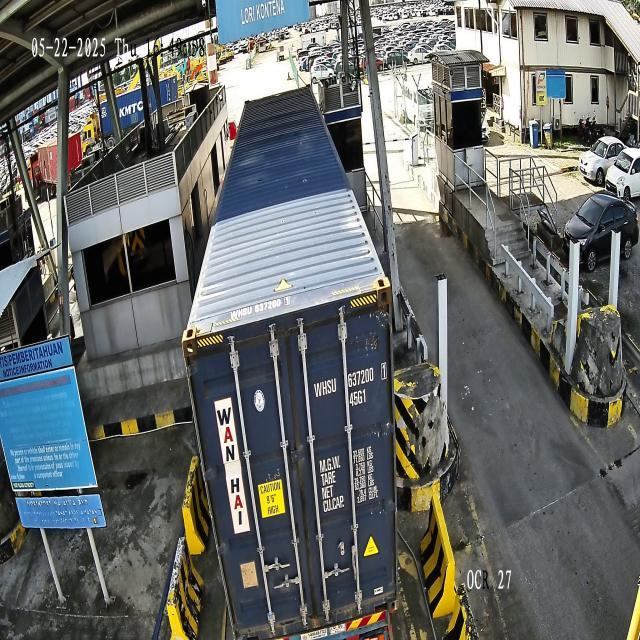ISO: (349, 389, 367, 410)
container_number: (314, 362, 388, 400)
